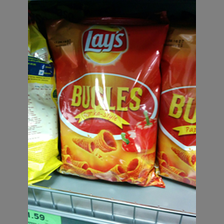chips: (52, 20, 164, 185), (157, 29, 196, 186)
